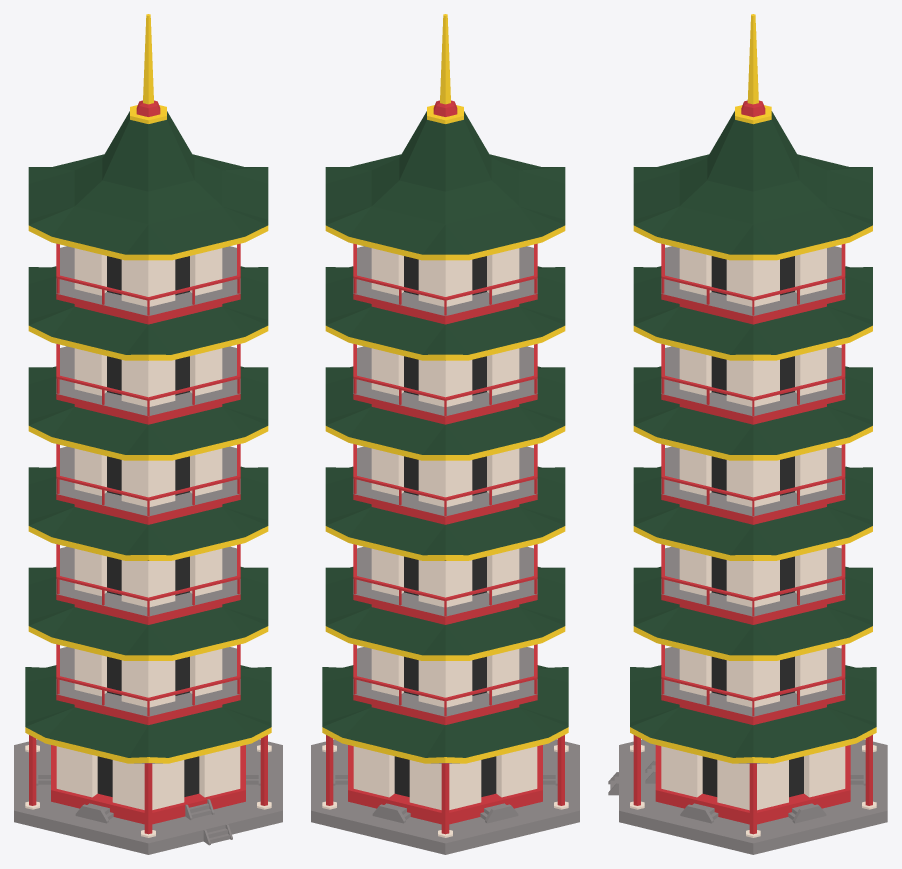
The model's file is building-pagoda-china.glb.
The picture shows the model from 3 angles, left to right: view 1: azimuth 30°, elevation 25°; view 2: azimuth 150°, elevation 25°; view 3: azimuth 270°, elevation 25°; orthographic projection.
Visible parts, largest first — view 1: building-pagoda-china; view 2: building-pagoda-china; view 3: building-pagoda-china.
Boxes of the visible parts, box(x1,y1,x2,y2) form: building-pagoda-china: box(14, 14, 282, 854); building-pagoda-china: box(311, 14, 579, 854); building-pagoda-china: box(608, 14, 887, 854).
Size of the model in its own units: 14.6 by 40.2 by 13.14.
Materials: 1 (1 with a texture image).
